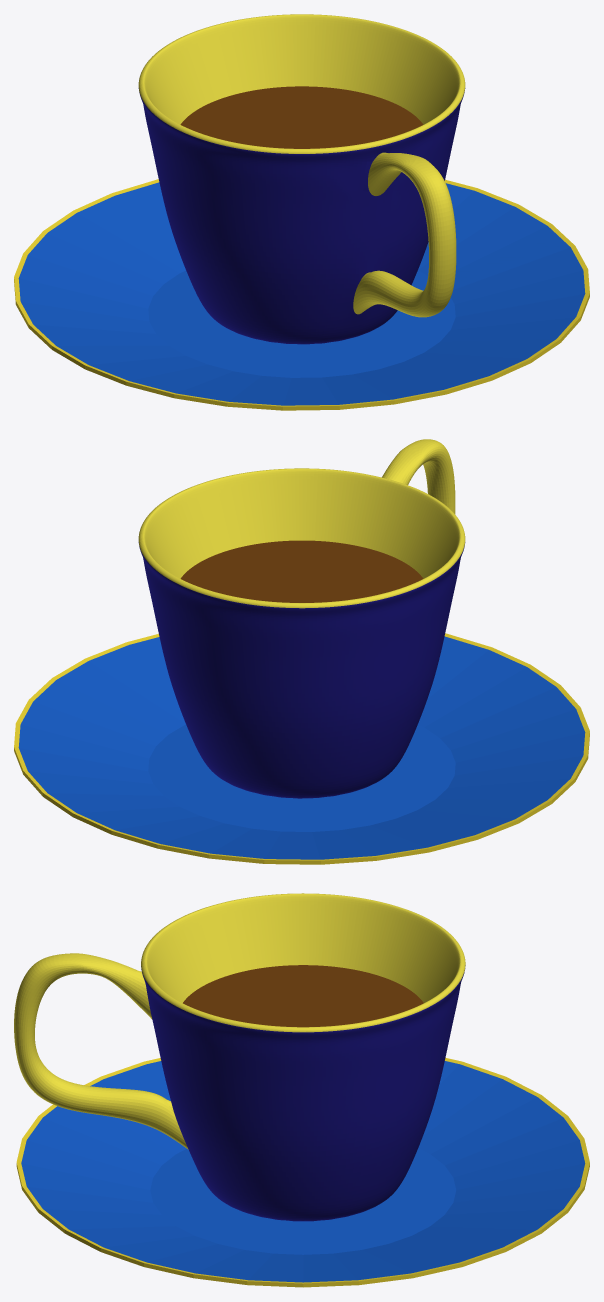
The model's file is TeacupHat.fbx.
3 renders of one model, top to bottom at view 1: azimuth 30°, elevation 25°; view 2: azimuth 150°, elevation 25°; view 3: azimuth 270°, elevation 25°, orthographic.
Parts seen in each view (by area): view 1: Cylinder, Cylinder.001; view 2: Cylinder, Cylinder.001; view 3: Cylinder, Cylinder.001.
Part boxes in pixels (x1,y1,x2,y2): Cylinder: [138, 14, 465, 344]; Cylinder.001: [14, 179, 589, 410]; Cylinder: [138, 439, 465, 798]; Cylinder.001: [14, 633, 589, 864]; Cylinder: [14, 893, 465, 1221]; Cylinder.001: [16, 1057, 589, 1287].
Size of the model in its own units: 418 by 189 by 420.
